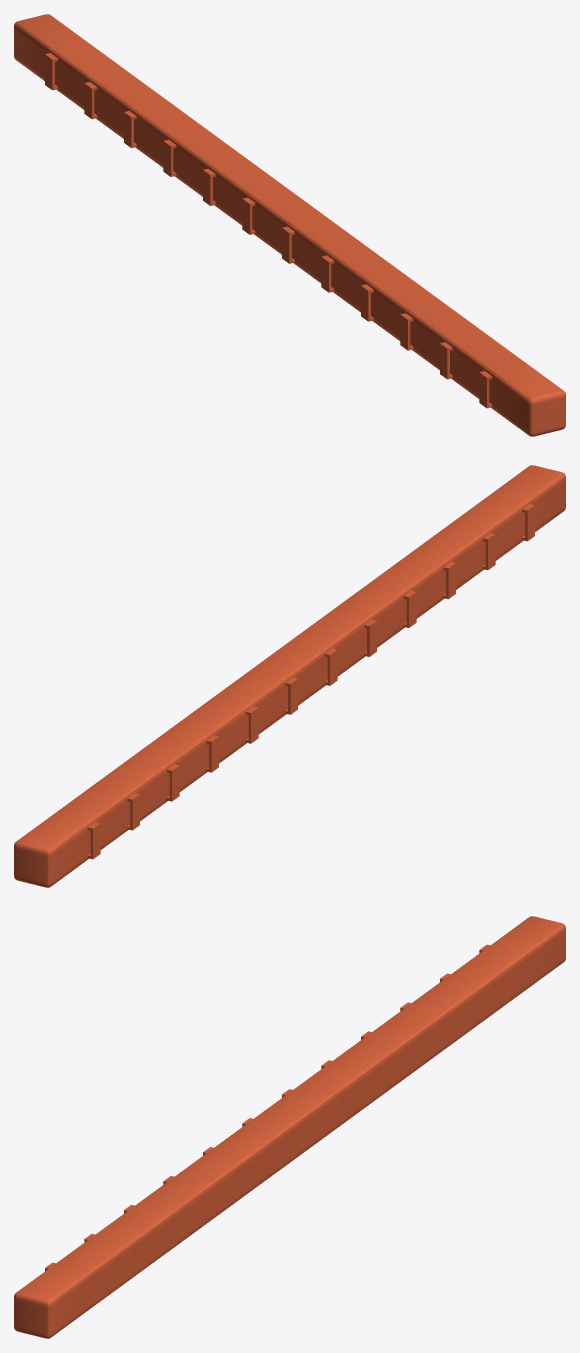
Rendered from KitchenPotsandPansRack.fbx.
The picture shows the model from 3 angles, top to bottom: view 1: azimuth 30°, elevation 25°; view 2: azimuth 150°, elevation 25°; view 3: azimuth 330°, elevation 25°; orthographic projection.
Visible parts, largest first — view 1: KitchenPotsandPansRack_Baked; view 2: KitchenPotsandPansRack_Baked; view 3: KitchenPotsandPansRack_Baked.
Part boxes in pixels (left/top/right/bottom): KitchenPotsandPansRack_Baked: left=14, top=14, right=565, bottom=436; KitchenPotsandPansRack_Baked: left=14, top=465, right=565, bottom=887; KitchenPotsandPansRack_Baked: left=14, top=916, right=565, bottom=1338.
Bounding box in the file's own units: 6.34 × 5.54 × 133.
Materials: 1 (1 with a texture image).
